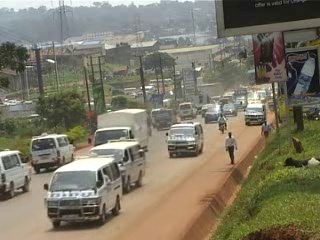Car: (203, 105, 223, 126), (221, 100, 236, 119), (232, 94, 247, 110), (200, 100, 211, 116)
Motorcycle: (217, 112, 229, 134)
